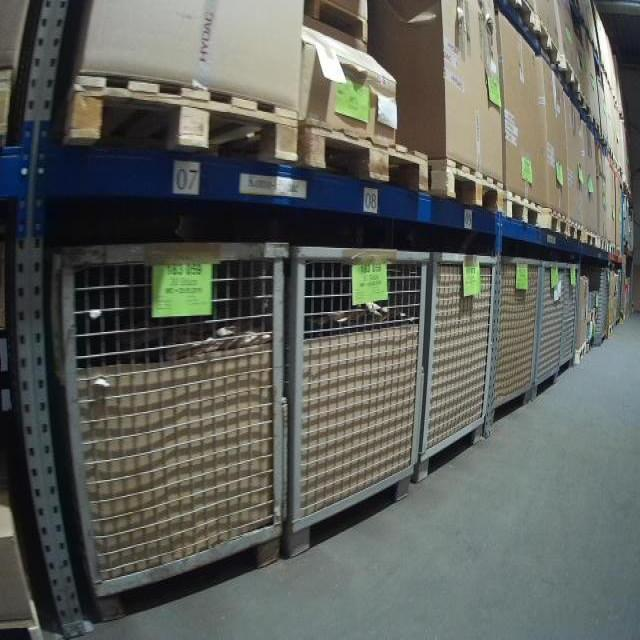pallet: (58, 62, 298, 177), (298, 107, 429, 200), (430, 146, 505, 225), (503, 184, 539, 239), (540, 206, 570, 247), (569, 219, 586, 248)
stillage: (45, 239, 288, 629), (287, 240, 433, 559), (413, 244, 497, 486), (483, 251, 542, 441), (527, 256, 562, 406), (558, 259, 582, 389), (582, 263, 613, 351)
